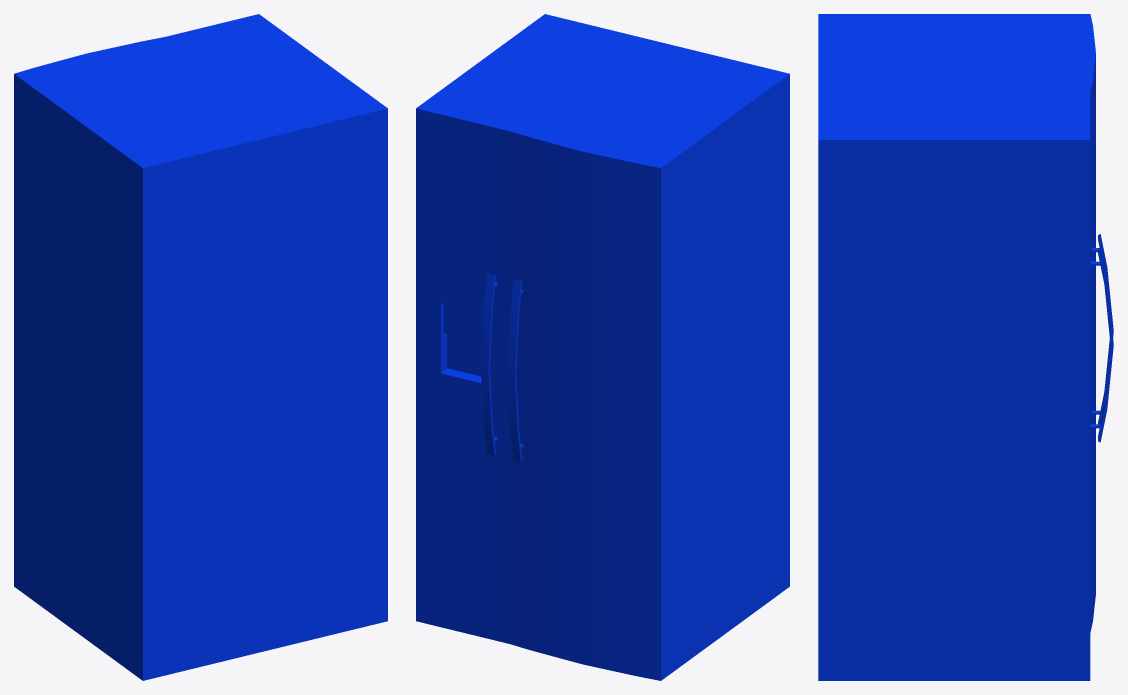
Rendered from Fridge.FBX.
3 renders of one model, left to right at view 1: azimuth 30°, elevation 25°; view 2: azimuth 150°, elevation 25°; view 3: azimuth 270°, elevation 25°, orthographic. The views are drawn at different scales.
Visible parts, largest first — view 1: Fridge; view 2: Fridge; view 3: Fridge.
Boxes of the visible parts, box(x1,y1,x2,y2) form: Fridge: box(14, 14, 387, 680); Fridge: box(416, 14, 789, 680); Fridge: box(818, 14, 1113, 680).
Bounding box in the file's own units: 1.15 × 2.31 × 1.14.
